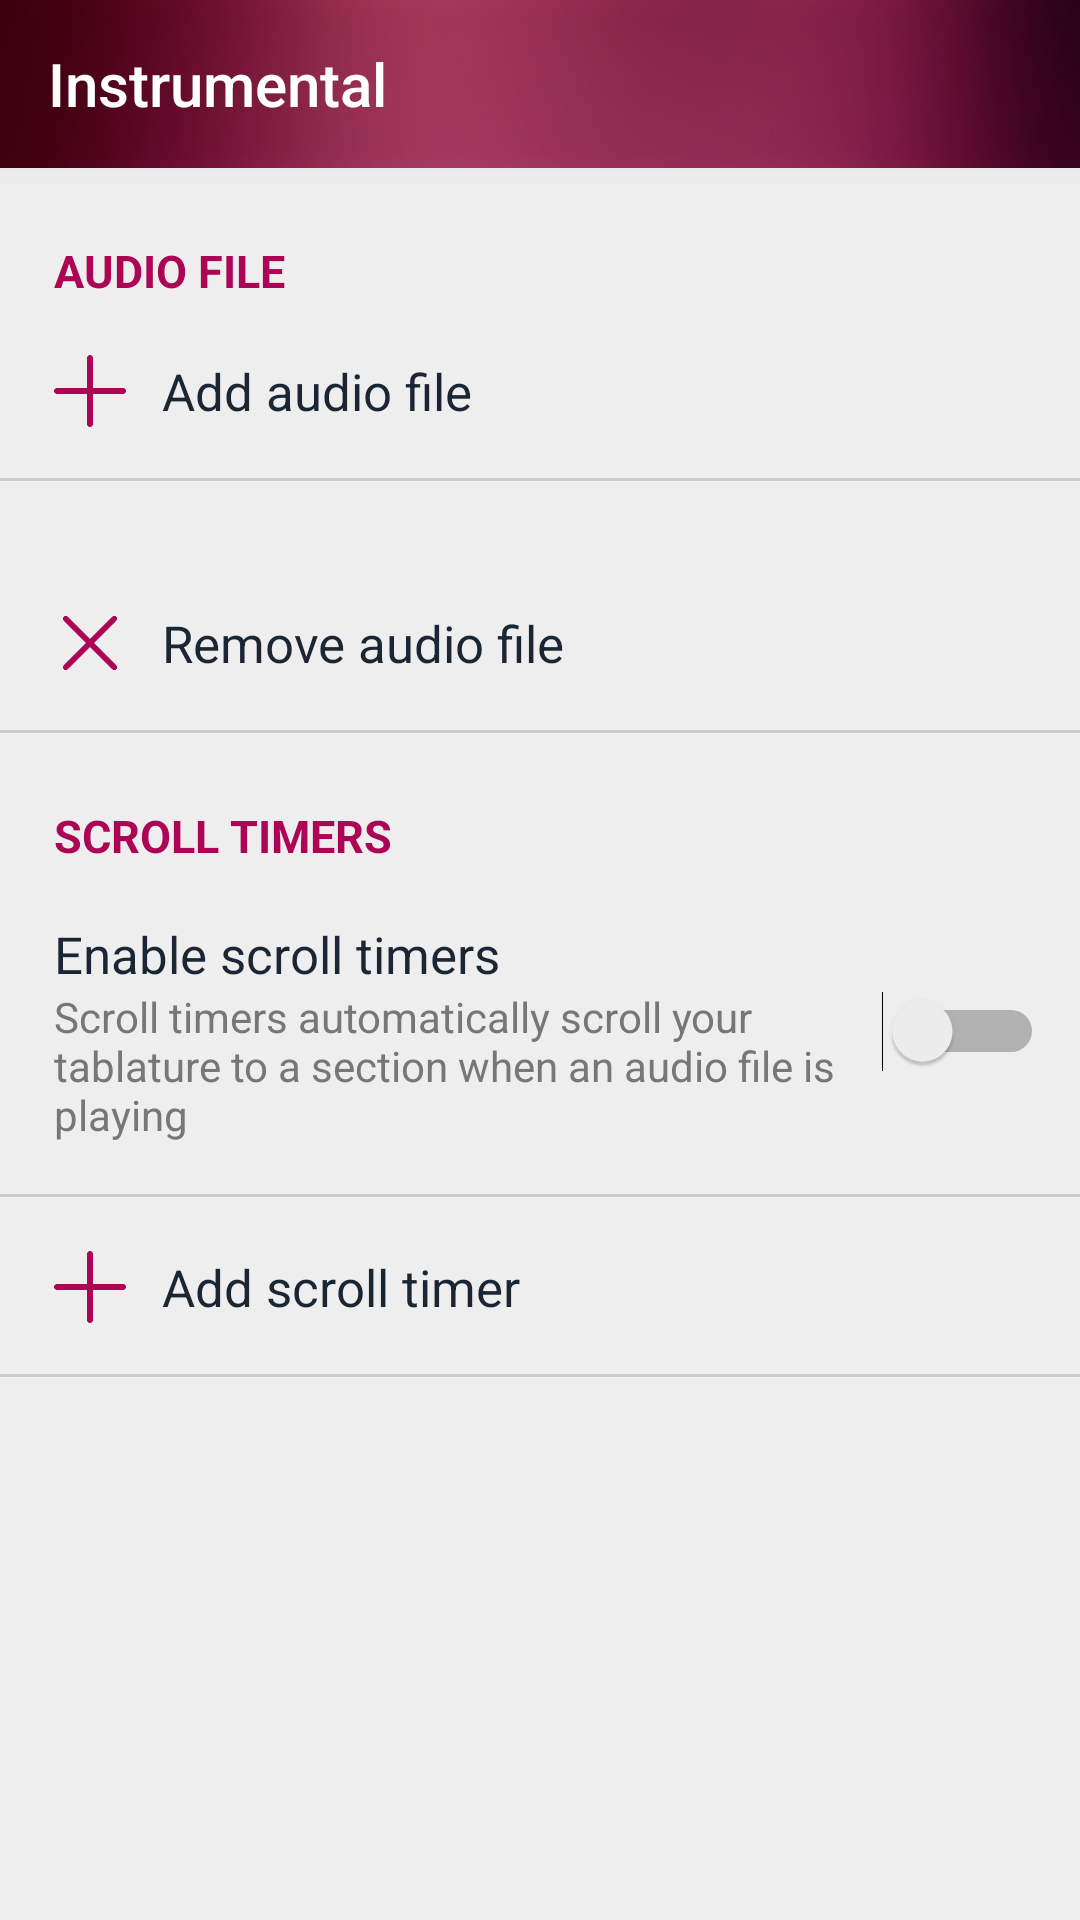

Icons on this 1080px x 1920px Android screen, each with its box as (x1, y1, x2, y2):
delete: (63, 616, 117, 670)
plus: (54, 355, 126, 427), (54, 1251, 126, 1323)
